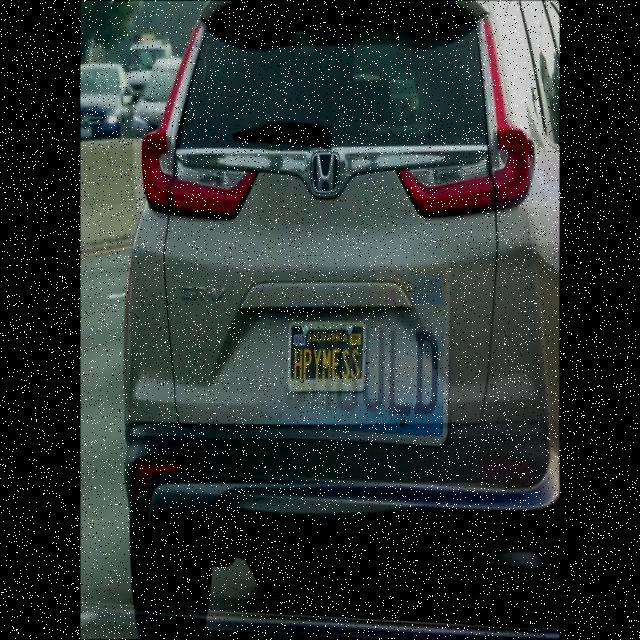licenseplate: (289, 322, 366, 392)
